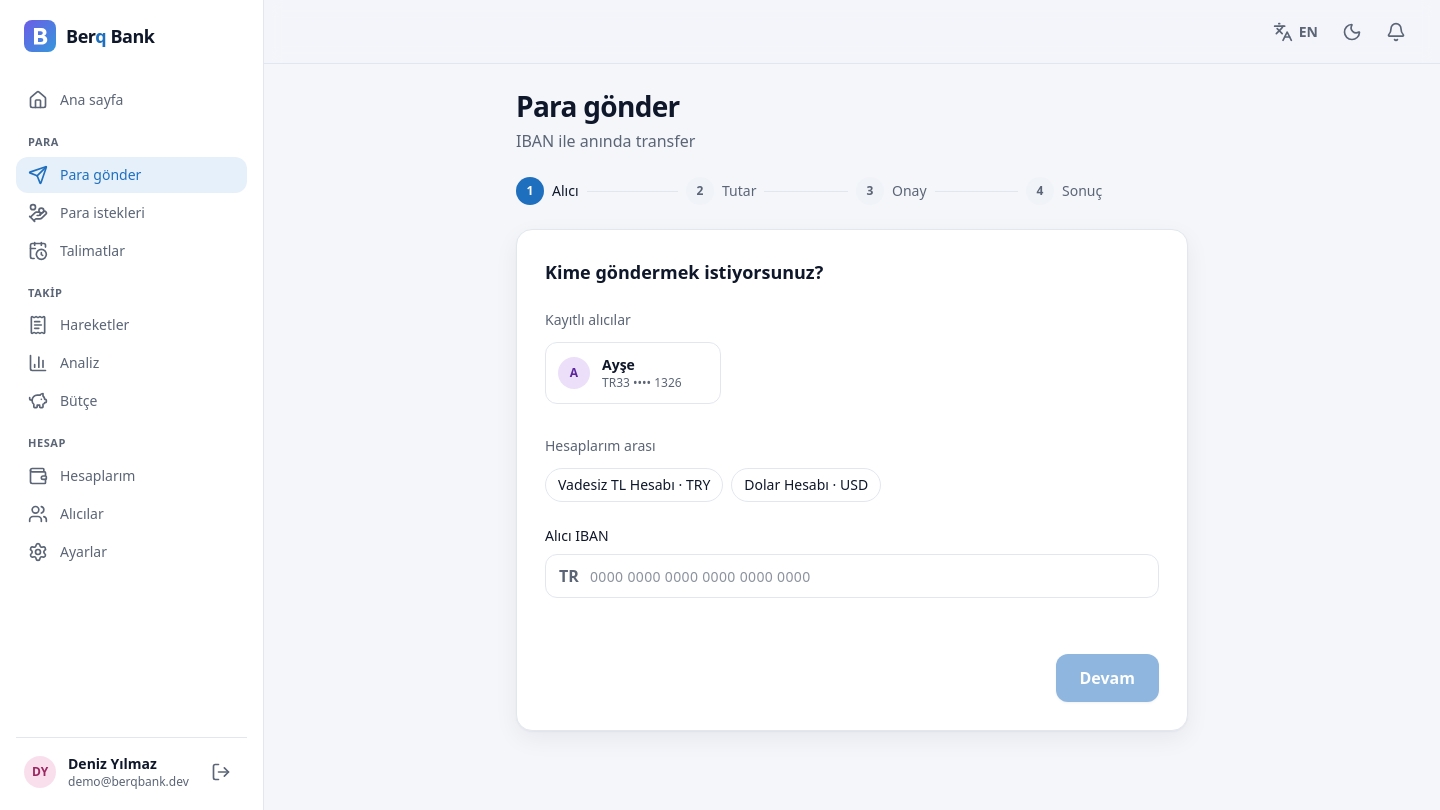
Scenario: transfer wizard › sends money through recipient → amount → review → done
In the field labelled "Alıcı IBAN": [852, 576] box [545,554,1159,598], type "330006100519786457841326"
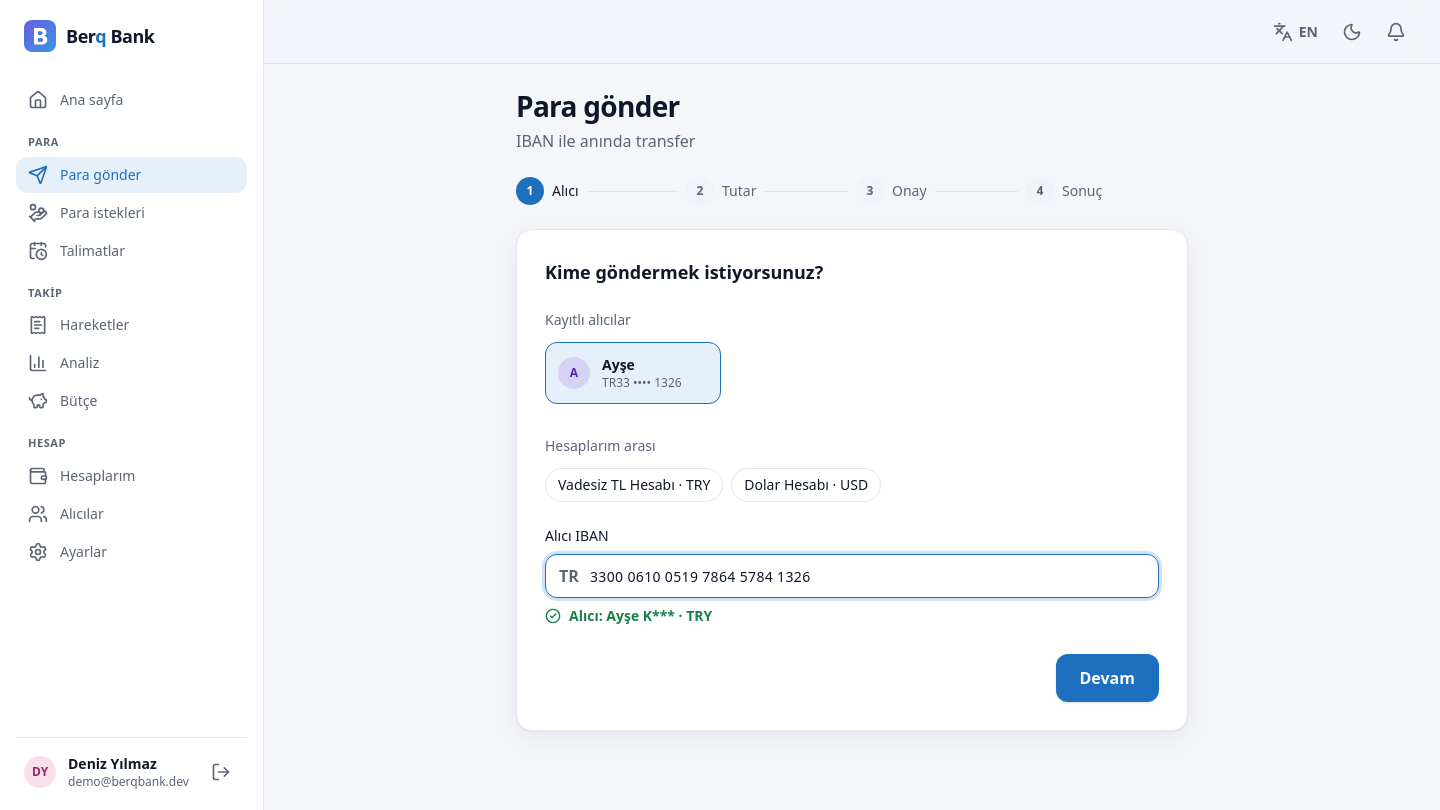
Expected: the text "Alıcı: Ayşe K*** · TRY" is shown, [545,606,712,625]
Click the button "Devam": [1107, 678] box [1056,654,1159,702]
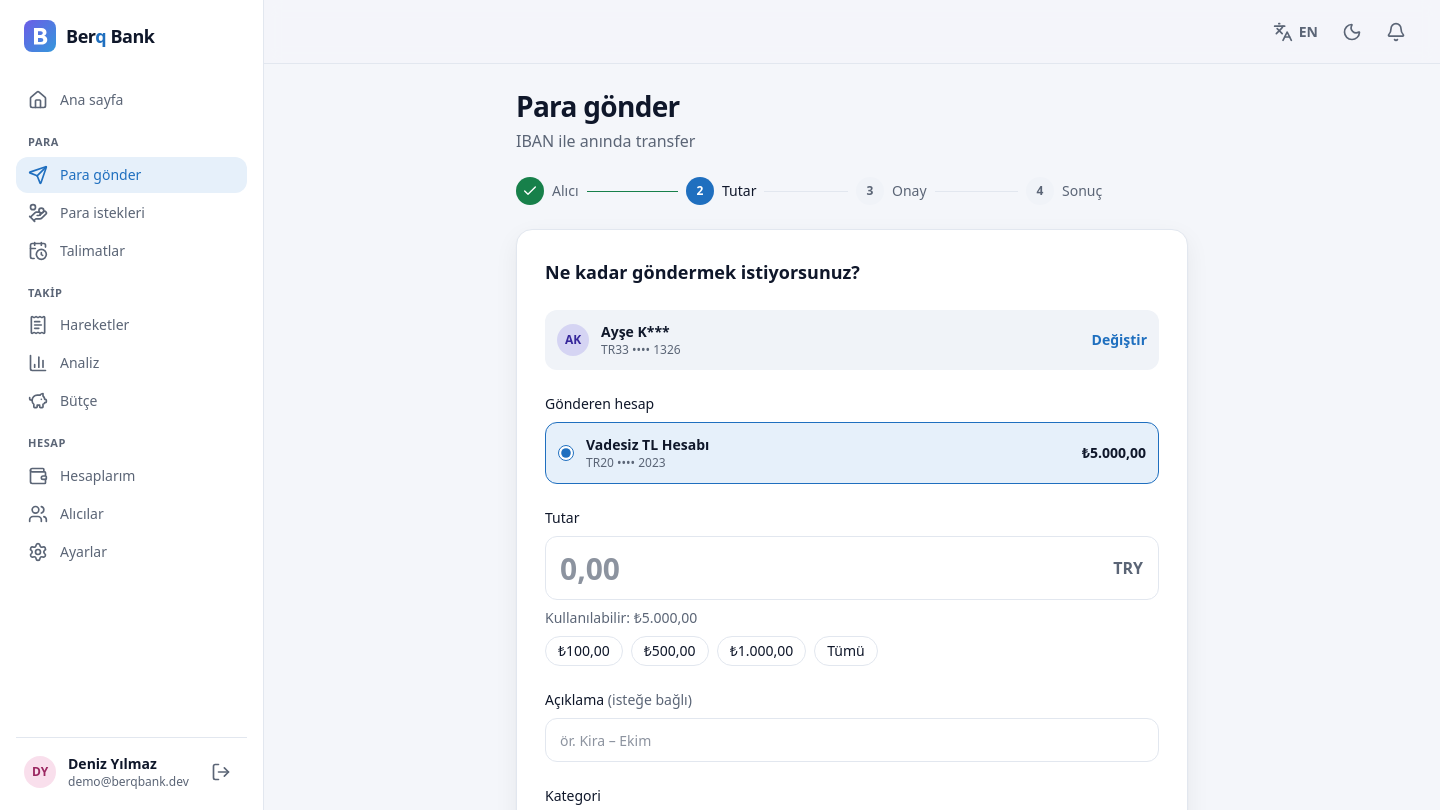
Expected: the radio button labelled "Vadesiz TL Hesabı TR20 •••• 2023 ₺5.000,00" is checked, [558,445,574,461]
Expected: the button "Dolar Hesabı" is gone
In the field labelled "Tutar": [852, 568] box [545,536,1159,600], type "1.250,50"
In the field labelled "Açıklama (isteğe bağlı)": [852, 740] box [545,718,1159,762], type "Kira"
(page scrolled)
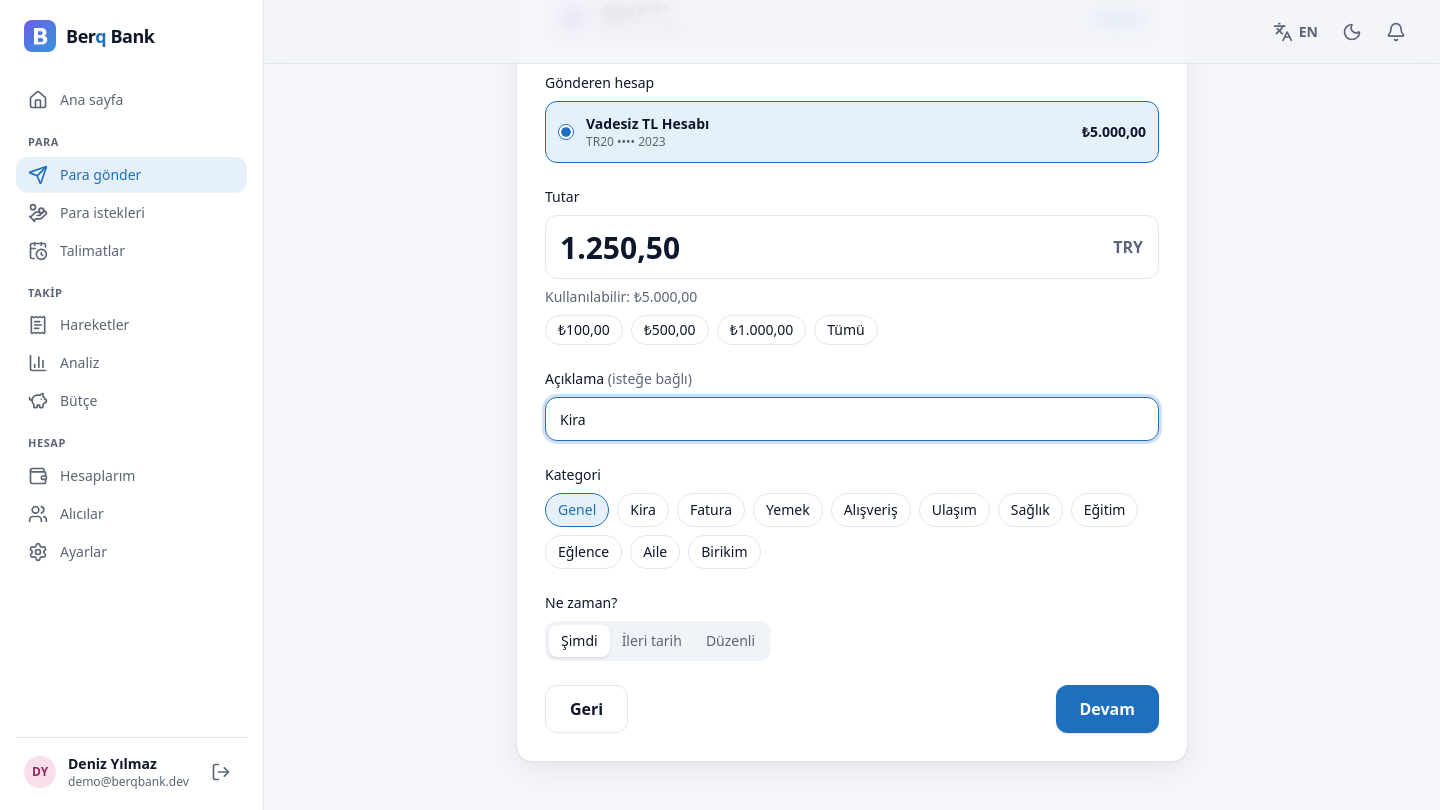
Click the radio button labelled "Kira": [643, 510] box [617,493,669,527]
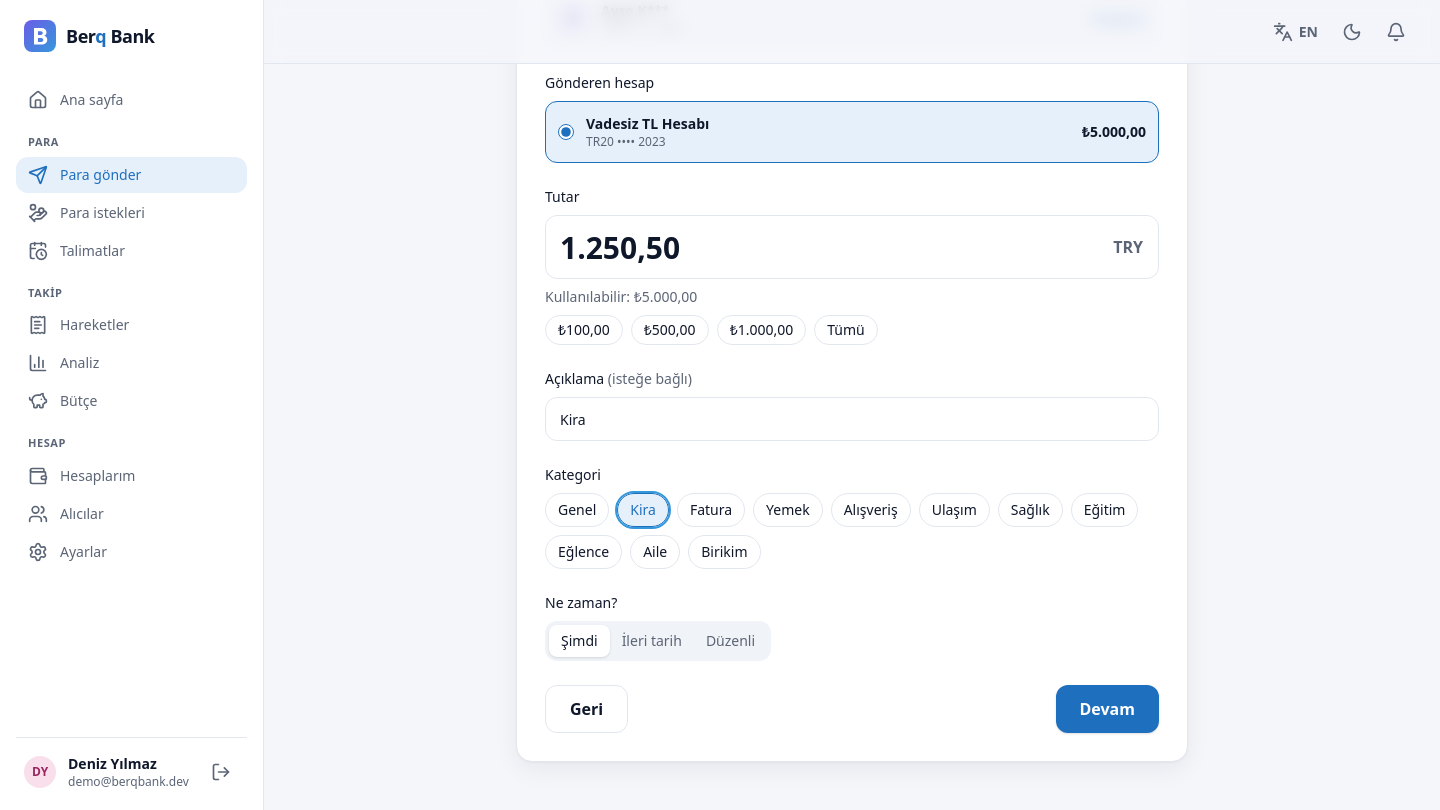
Click the button "Devam": [1107, 709] box [1056,685,1159,733]
(page scrolled)
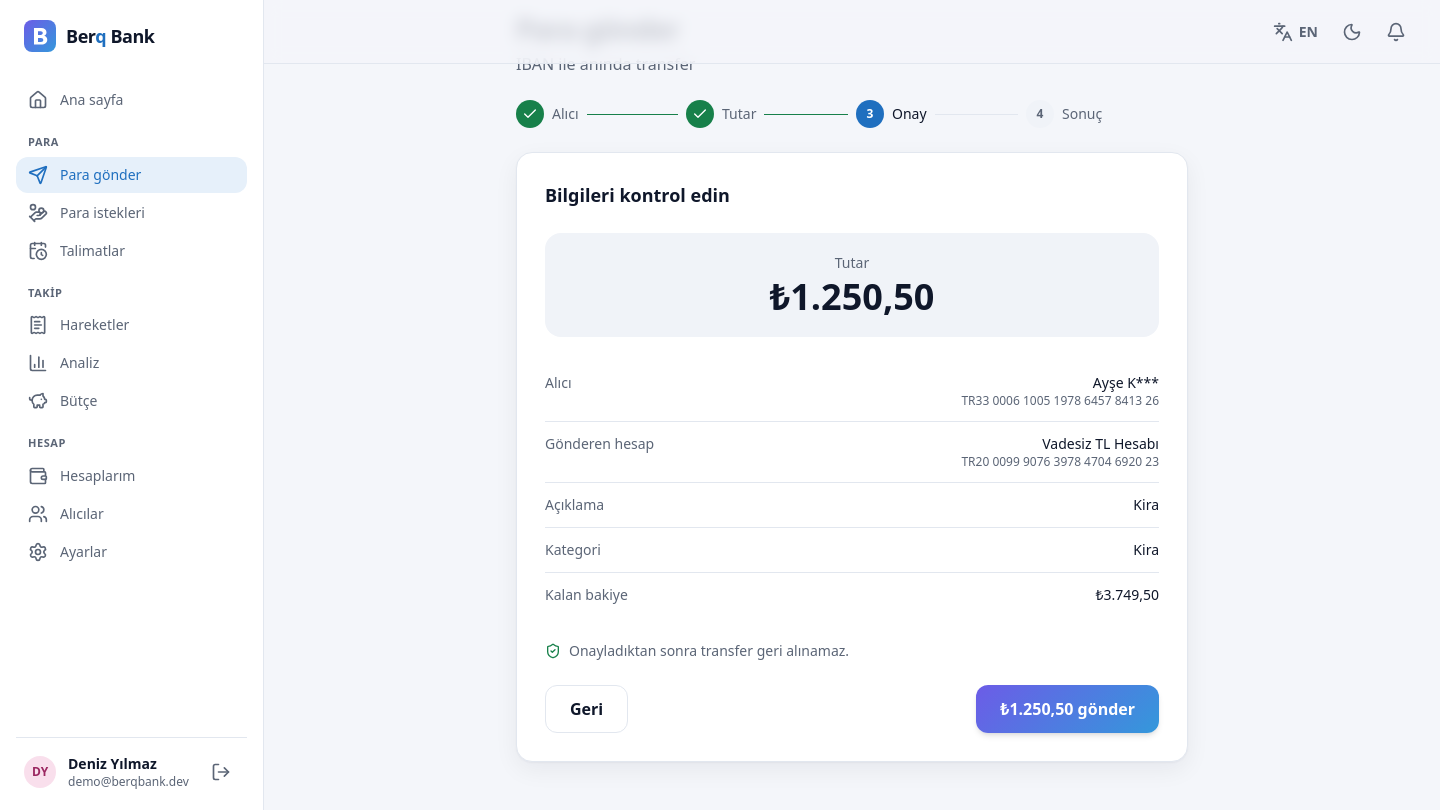
Expected: the text "₺3.749,50" is shown, [1095,585,1159,605]
Click the button "₺1.250,50 gönder": [1068, 709] box [976,685,1159,733]
(page scrolled)
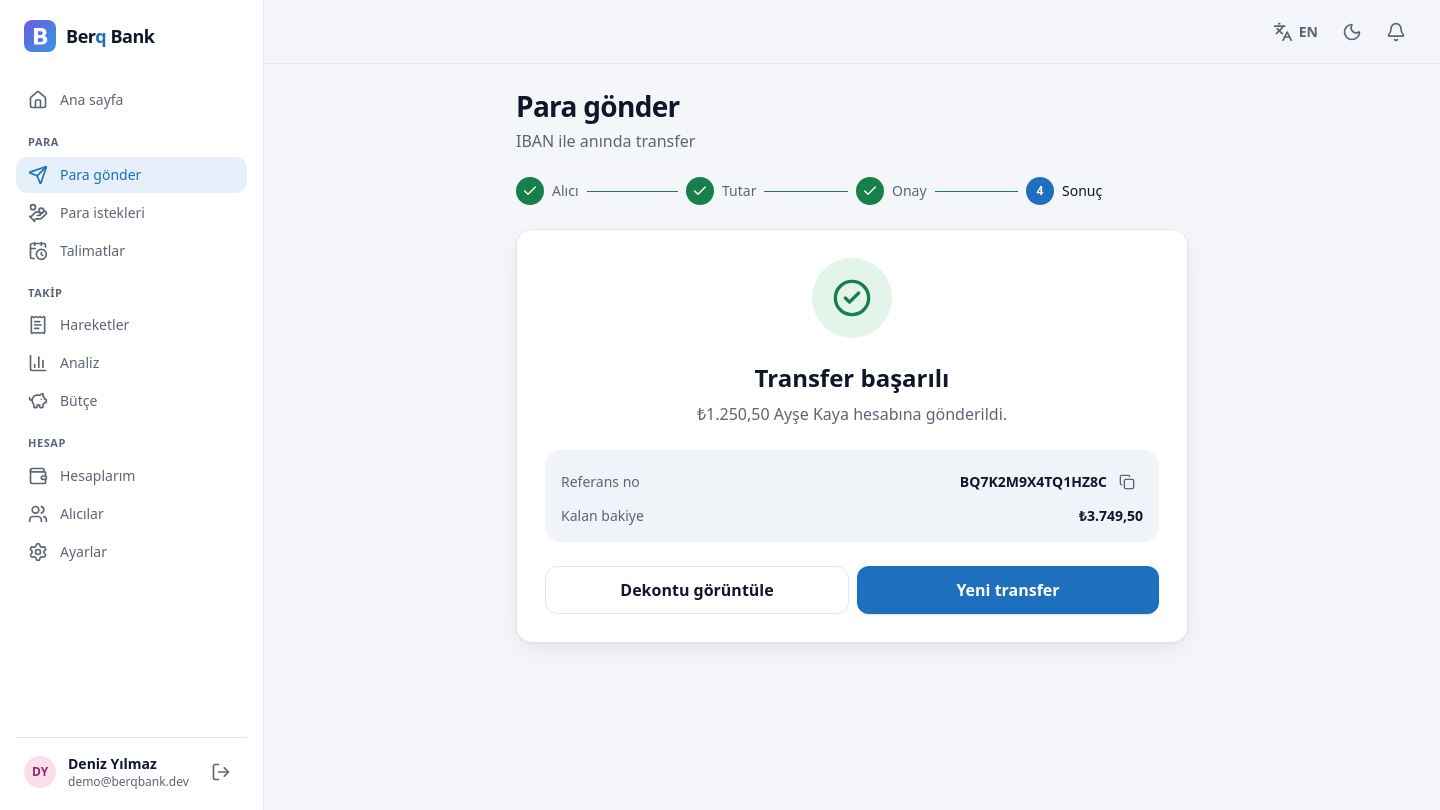
Expected: the heading "Transfer başarılı" is shown, [754,361,949,394]
Expected: the text "BQ7K2M9X4TQ1HZ8C" is shown, [960,466,1143,498]
